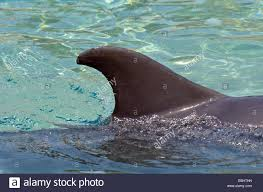fin: (39, 39, 263, 166)
